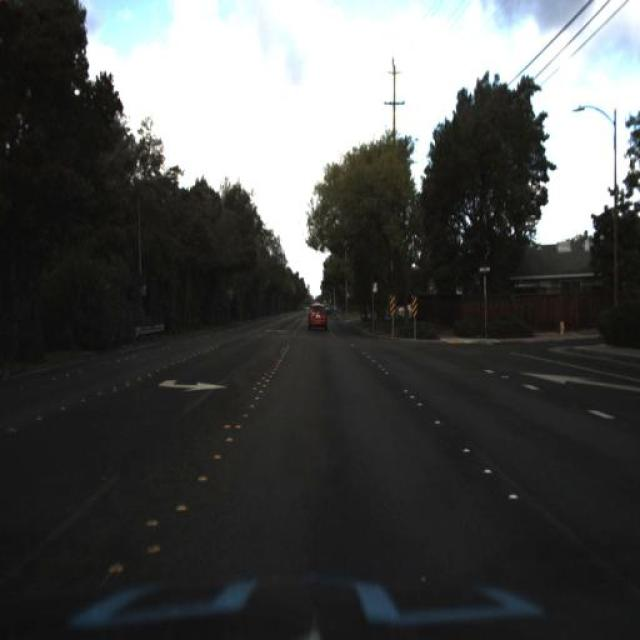car: (304, 296, 330, 342)
